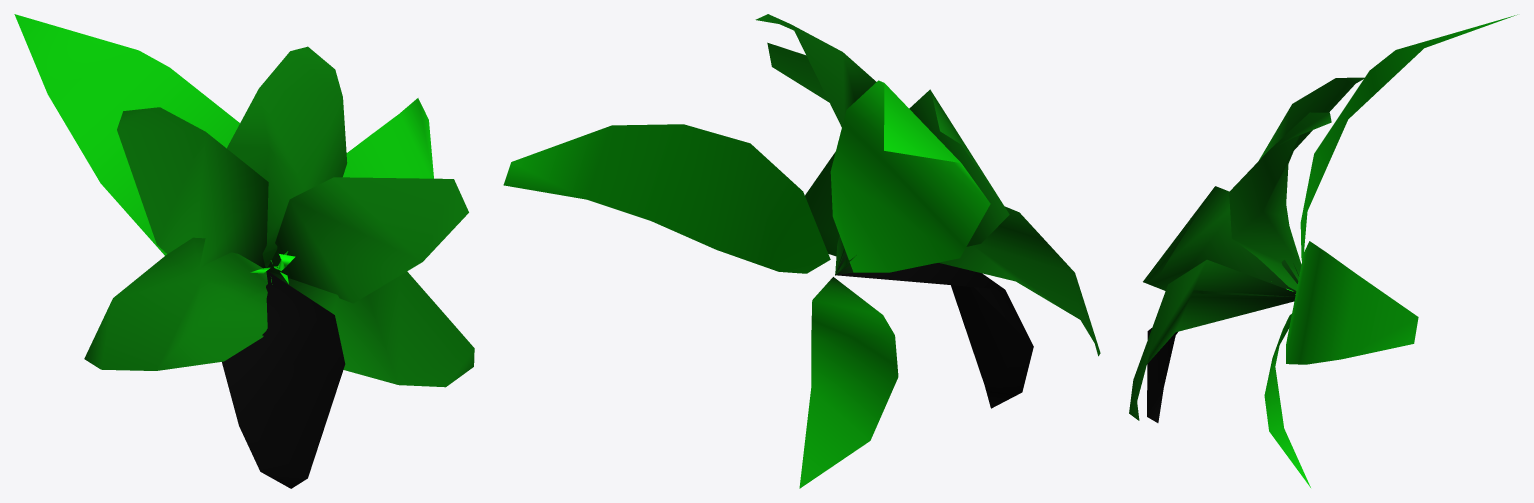
Rendered from flower.fbx.
The picture shows the model from 3 angles, left to right: view 1: azimuth 30°, elevation 25°; view 2: azimuth 150°, elevation 25°; view 3: azimuth 270°, elevation 25°; orthographic projection. The views are drawn at different scales.
Visible parts, largest first — view 1: treess:polySurface386; view 2: treess:polySurface386; view 3: treess:polySurface386.
Part boxes in pixels (<box>): treess:polySurface386: <box>14,14,474,488</box>; treess:polySurface386: <box>503,14,1100,488</box>; treess:polySurface386: <box>1129,14,1517,487</box>.
Size of the model in its own units: 68.59 by 62.3 by 56.48.
